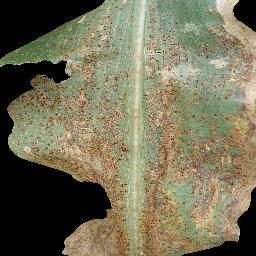Corn_Common_Rust: (1, 0, 256, 255)
